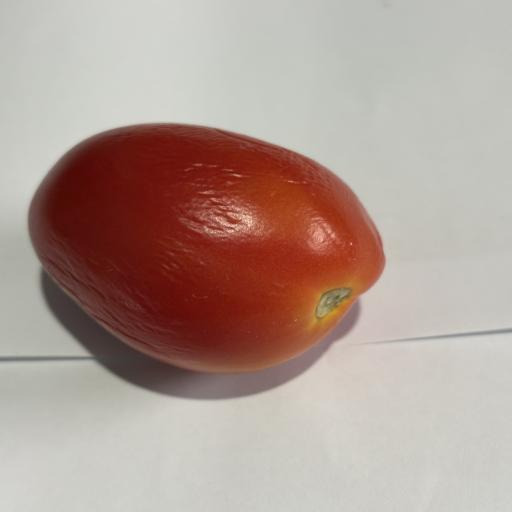spoiled: (29, 124, 385, 372)
